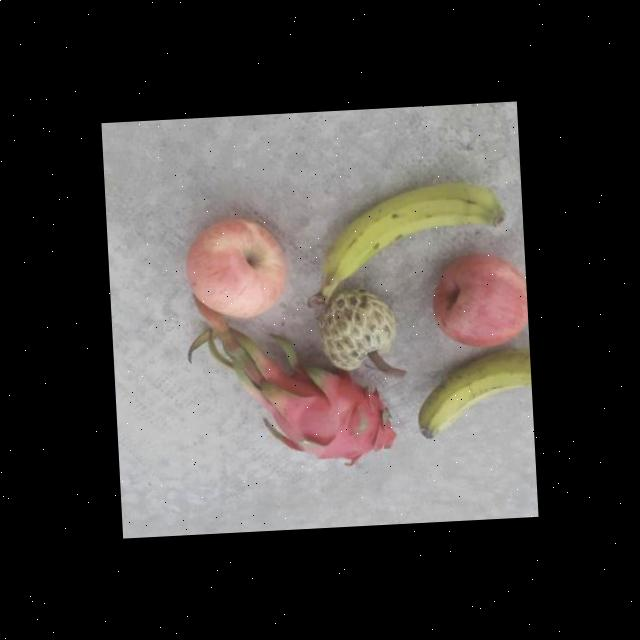Sakya fruit: (316, 286, 404, 382)
apple: (183, 208, 296, 322), (426, 246, 530, 352)
banana: (303, 171, 516, 309), (414, 346, 534, 442)
pitaya: (250, 357, 409, 472)
